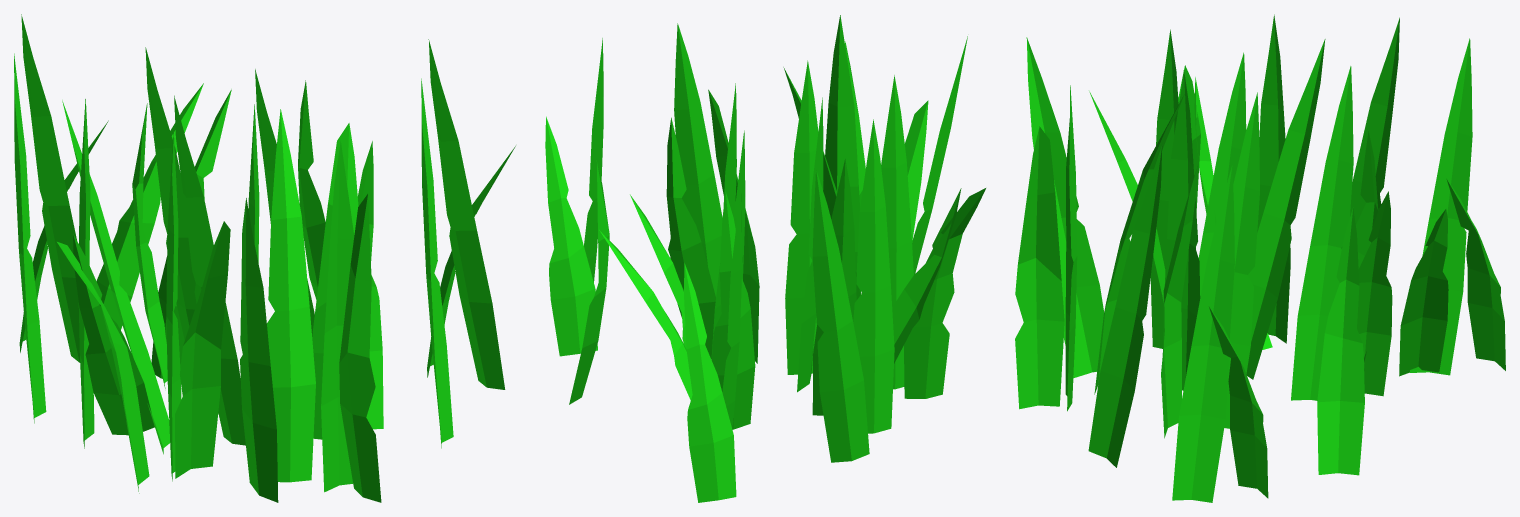
Rendered from grass.fbx.
3 renders of one model, left to right at view 1: azimuth 30°, elevation 25°; view 2: azimuth 150°, elevation 25°; view 3: azimuth 270°, elevation 25°, orthographic. The views are drawn at different scales.
Visible parts, largest first — view 1: 平面.018; view 2: 平面.018; view 3: 平面.018.
Part boxes in pixels (x1,y1,x2,y2): 平面.018: (14,14,515,502); 平面.018: (545,15,985,502); 平面.018: (1015,14,1505,502).
Bounding box in the file's own units: 497 × 358 × 478.
